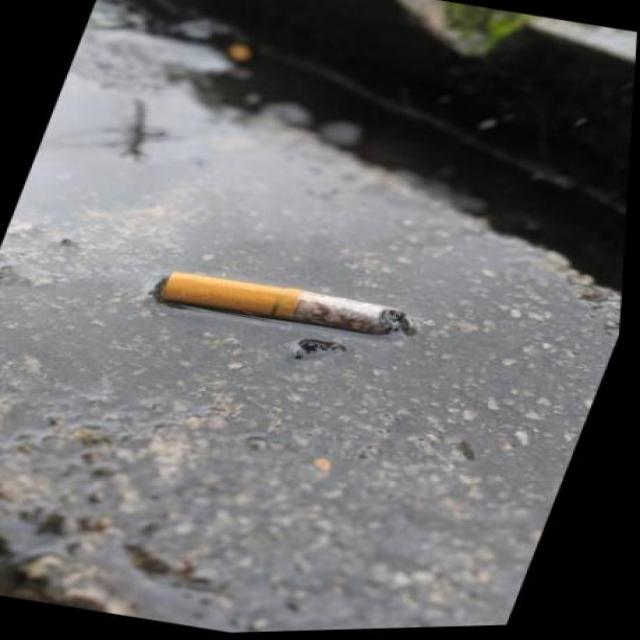cigarette: (152, 262, 432, 354)
